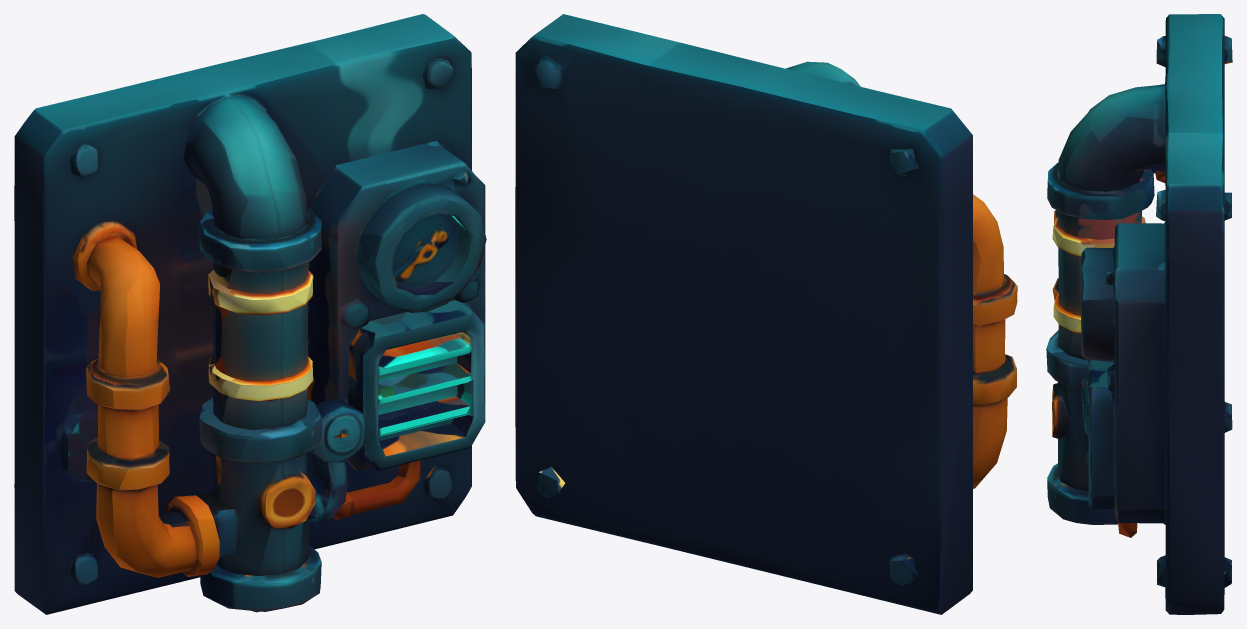
Rendered from NewBG8.fbx.
3 views of the same model, side by side, from view 1: azimuth 30°, elevation 25°; view 2: azimuth 150°, elevation 25°; view 3: azimuth 270°, elevation 25° (orthographic). The views are drawn at different scales.
Parts seen in each view (by area): view 1: tmp_9mpgx3z.ply; view 2: tmp_9mpgx3z.ply; view 3: tmp_9mpgx3z.ply.
Part boxes in pixels (x1=…): tmp_9mpgx3z.ply: x1=14, y1=14, x2=486, y2=614; tmp_9mpgx3z.ply: x1=515, y1=14, x2=1017, y2=614; tmp_9mpgx3z.ply: x1=1046, y1=14, x2=1232, y2=614.
Bounding box in the file's own units: 186 × 199 × 77.85.
Materials: 1 (1 with a texture image).
